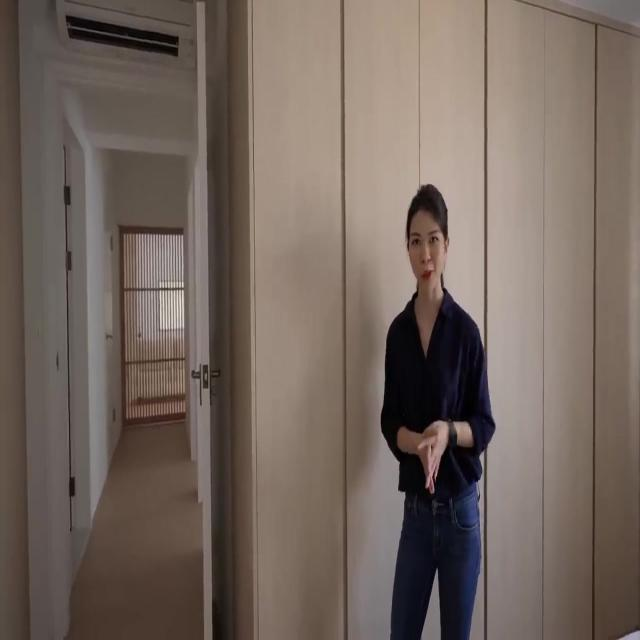person: (380, 183, 496, 639)
